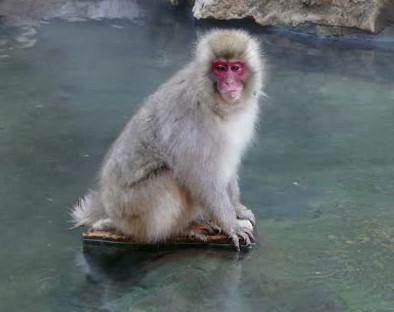monkey: (69, 20, 270, 251)
